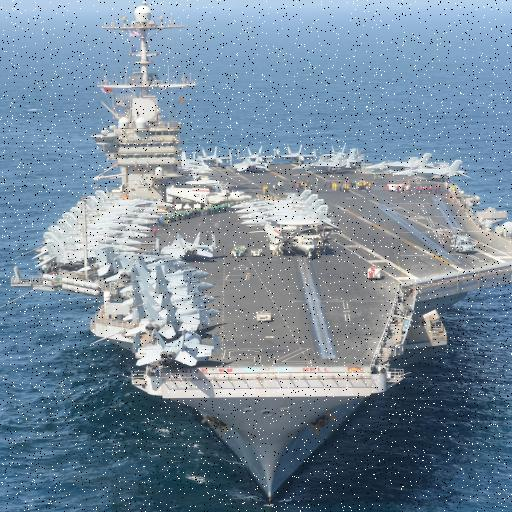Portanaves: (23, 1, 512, 507)
